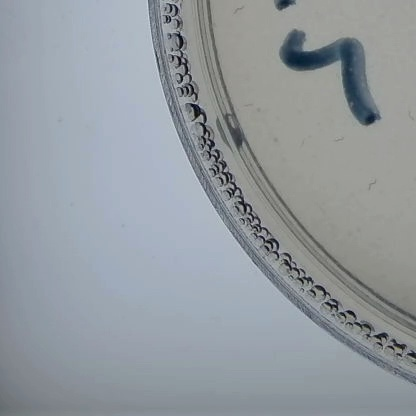worm: (238, 100, 266, 119), (232, 4, 251, 19), (331, 136, 351, 148), (402, 106, 416, 122), (366, 178, 381, 192), (296, 139, 312, 152)
